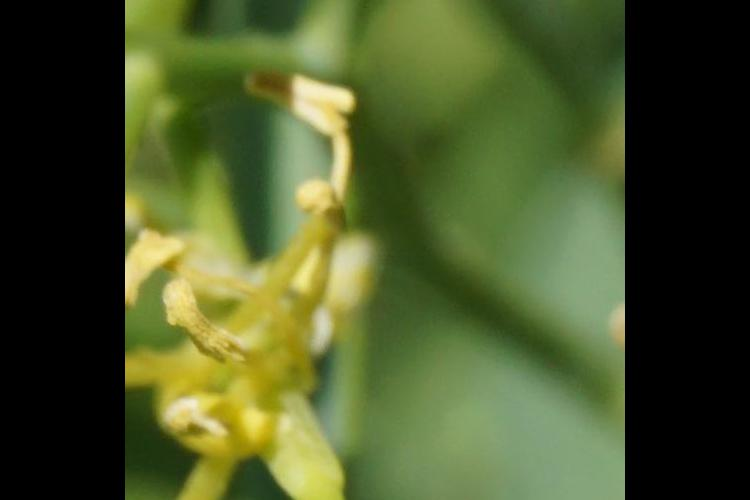pod: (247, 391, 375, 500)
